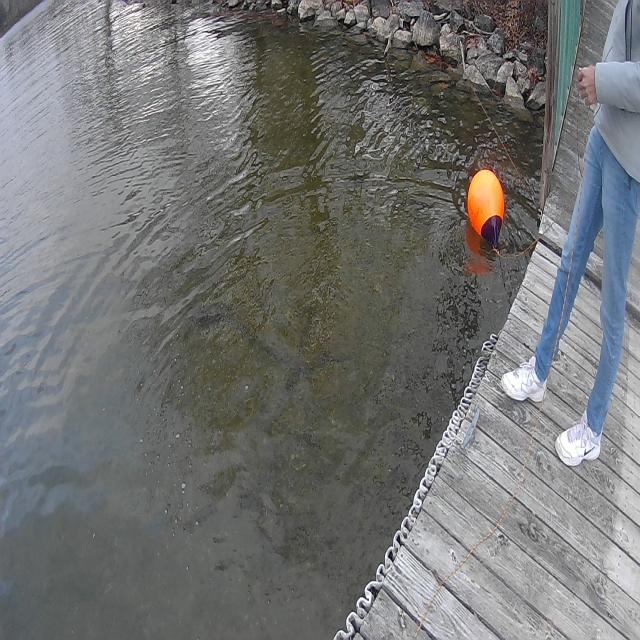Buoy: (464, 163, 511, 256)
